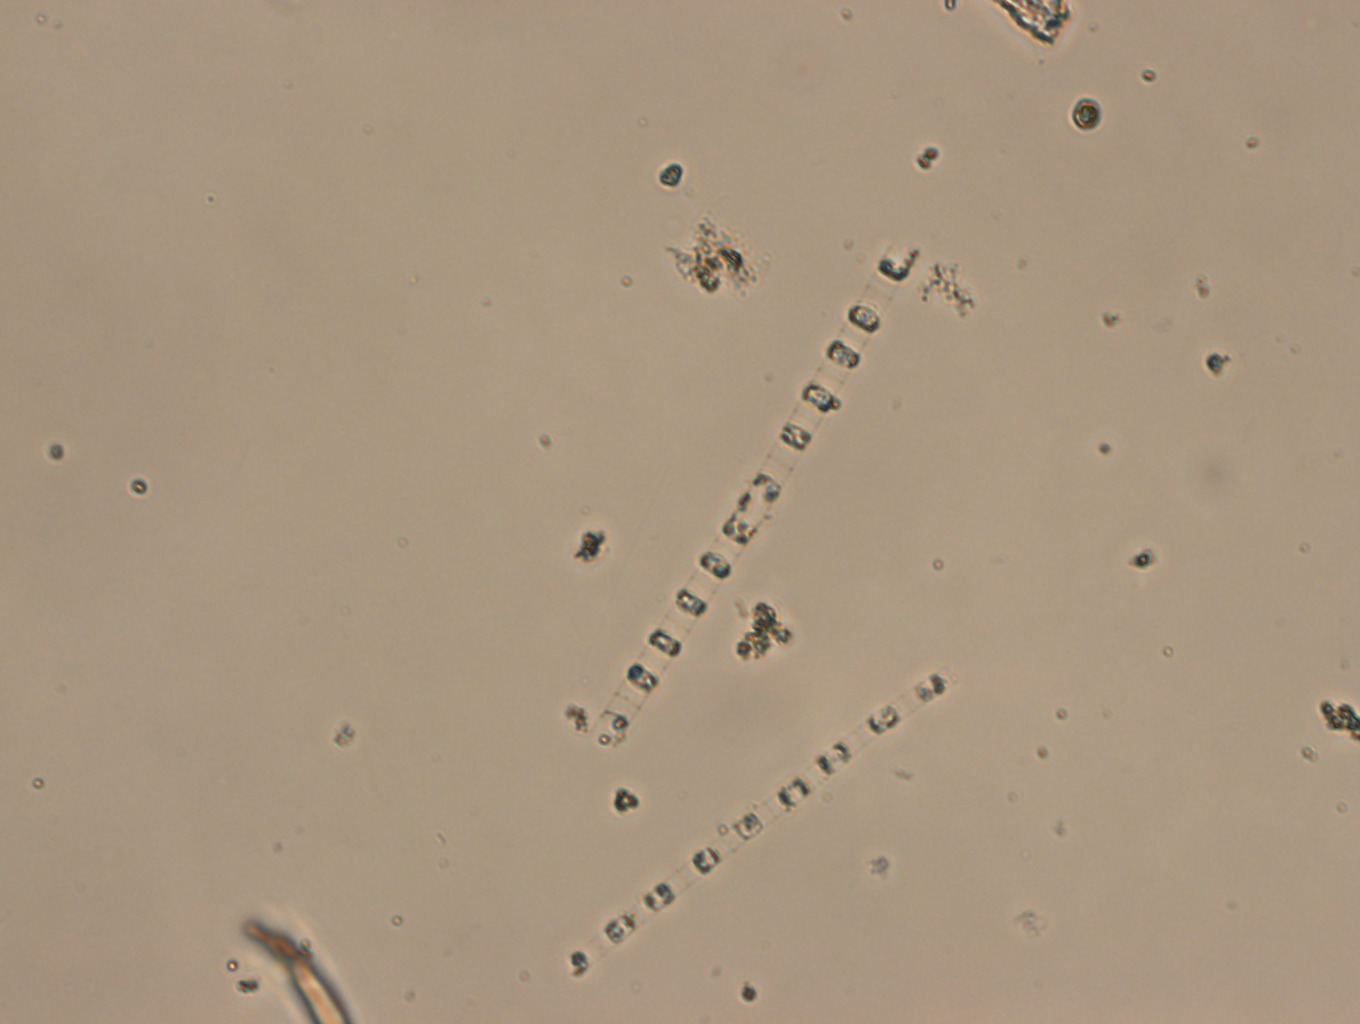skeletonema: (573, 239, 920, 756), (534, 662, 958, 991)
